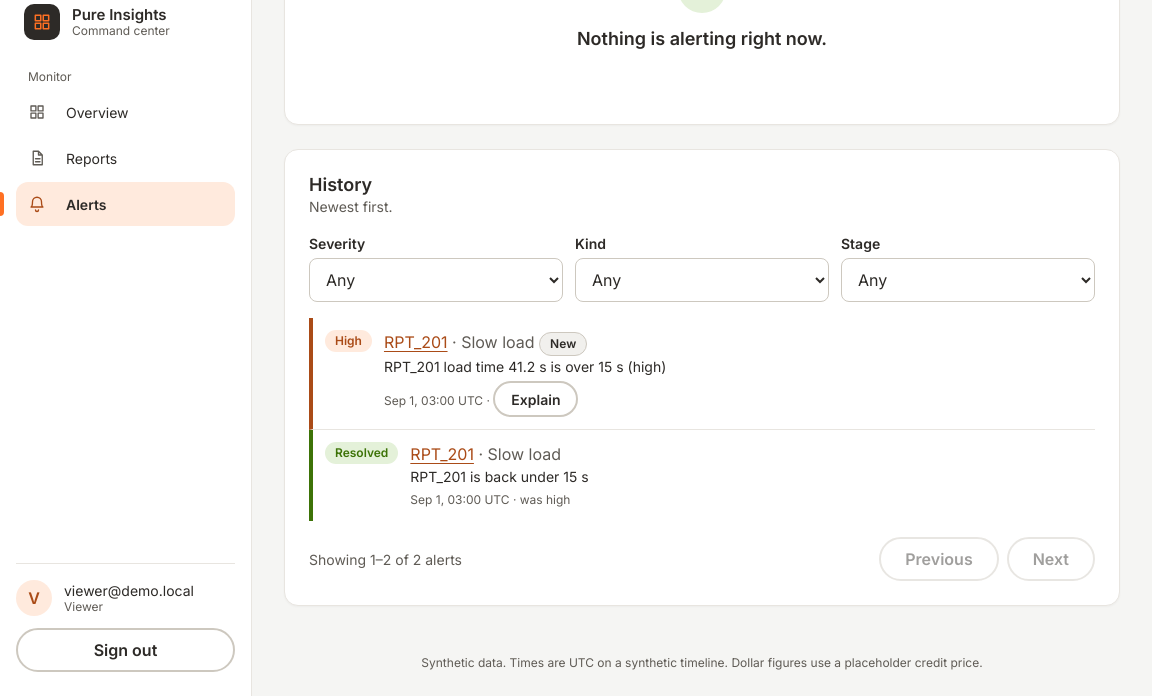
Test: Explain this alert: the checked answer stands in, and decisions happen on the alert › a viewer whose AI answer was withheld gets the rule-based one, labelled as such, with how it was checked, and no buttons
The width and height of the screenshot is (1152, 696).
(page scrolled)
Click the button with aria-label "Explain alert 1".
click(536, 399)  # box [493,381,578,417]
(page scrolled)
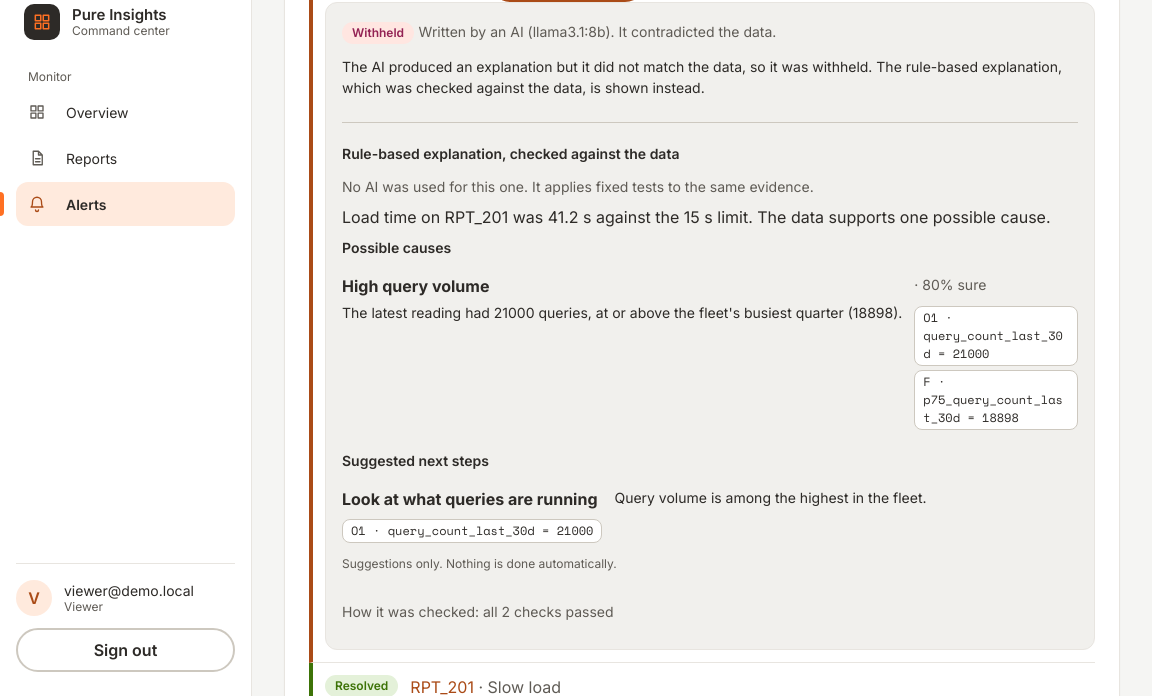
Check: the heading "Rule-based explanation, checked against the data" is shown, box [342,145,680,162]
Check: the text "High query volume" is shown, box [342,276,490,296]
Check: the heading "How it was checked: all 2 checks passed" is shown, box [342,602,614,620]
